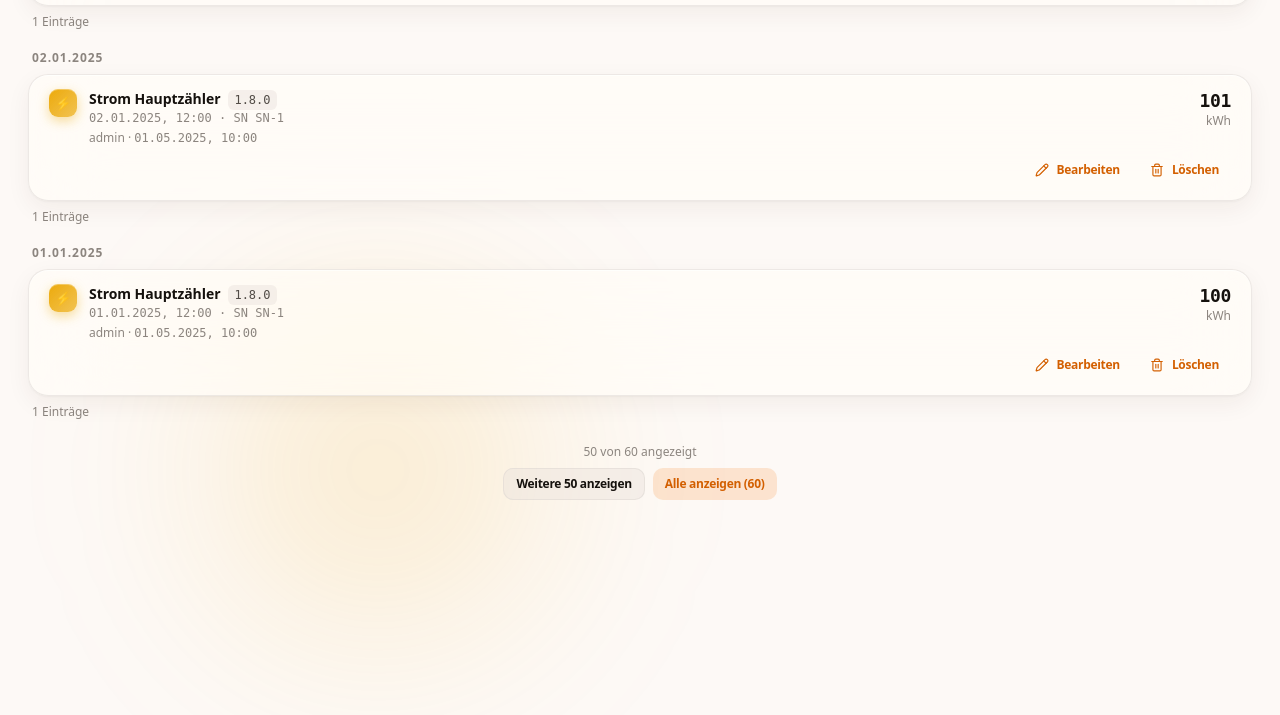
Scenario: ReadingsListPage — Mehrfach-Löschen › zeigt standardmäßig 50 Treffer und blättert auf alle
This screenshot has width=1280, height=715.
(page scrolled)
Expected: the text "50 von 60 angezeigt" is shown, left=584, top=444, right=696, bottom=460
Expected: the button "Weitere 50 anzeigen" is shown, left=504, top=468, right=645, bottom=500
Alle anzeigen → Blättern-Steuerung verschwindet.
Click the button "Alle anzeigen (60)".
click(715, 484)  # box left=653, top=468, right=777, bottom=500
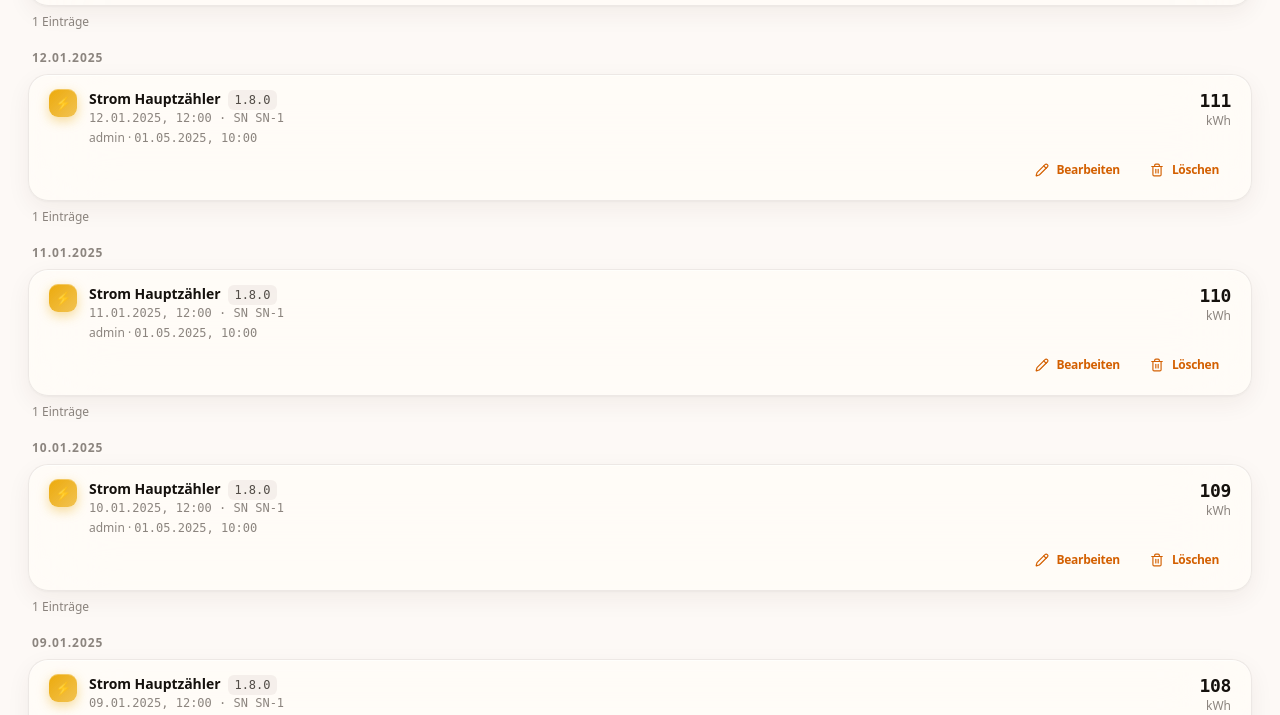
Expected: the button "Weitere 50 anzeigen" is gone
